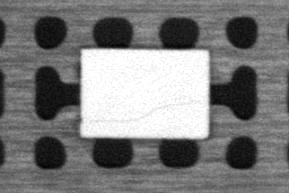DIE_CRACK: (91, 100, 195, 124)
